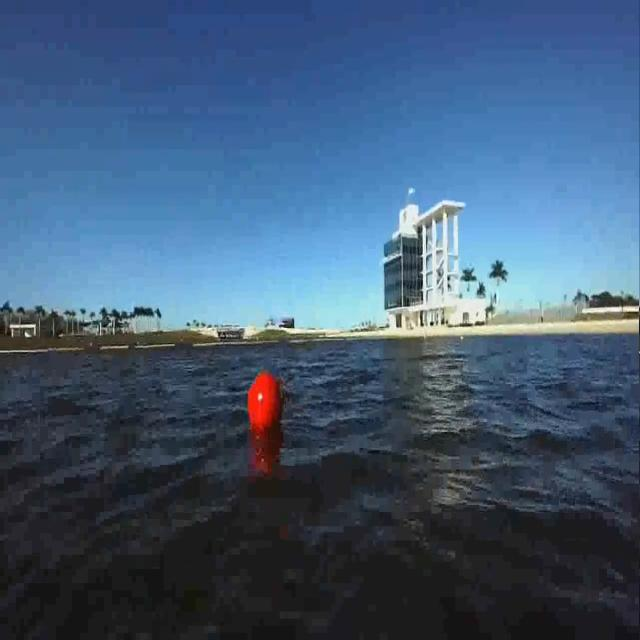red-buoy: (247, 372, 283, 434)
